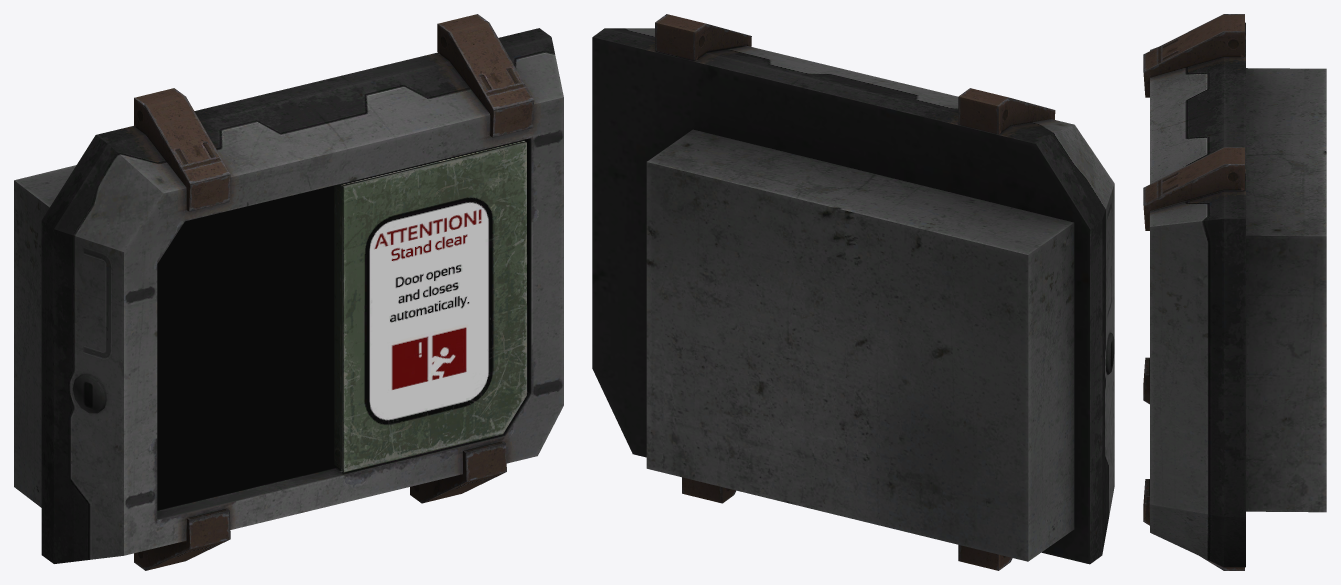
The model's file is large_inside.DAE.
The picture shows the model from 3 angles, left to right: view 1: azimuth 30°, elevation 25°; view 2: azimuth 150°, elevation 25°; view 3: azimuth 270°, elevation 25°; orthographic projection. The views are drawn at different scales.
Visible parts, largest first — view 1: large_inside; view 2: large_inside; view 3: large_inside.
Part boxes in pixels (bbox=[...]): large_inside: bbox=[14, 14, 563, 570]; large_inside: bbox=[592, 14, 1114, 570]; large_inside: bbox=[1143, 14, 1326, 570].
Bounding box in the file's own units: 25.03 × 22.32 × 8.86.
